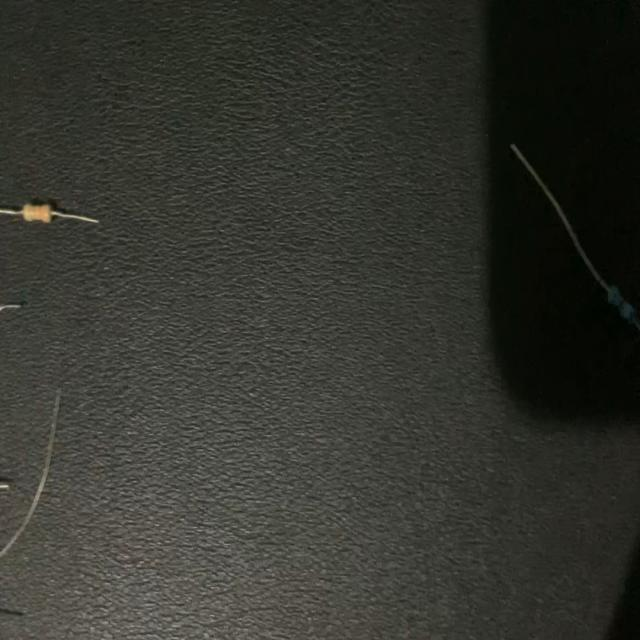resistor: (502, 128, 640, 344), (0, 171, 111, 239)
